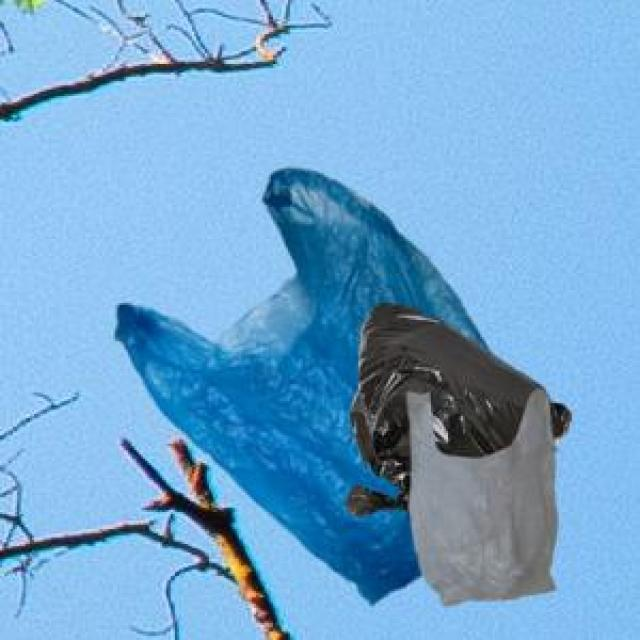miscellaneous trash: (341, 299, 568, 512)
